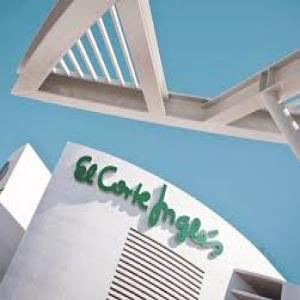corte_ingles: (63, 150, 239, 270)
